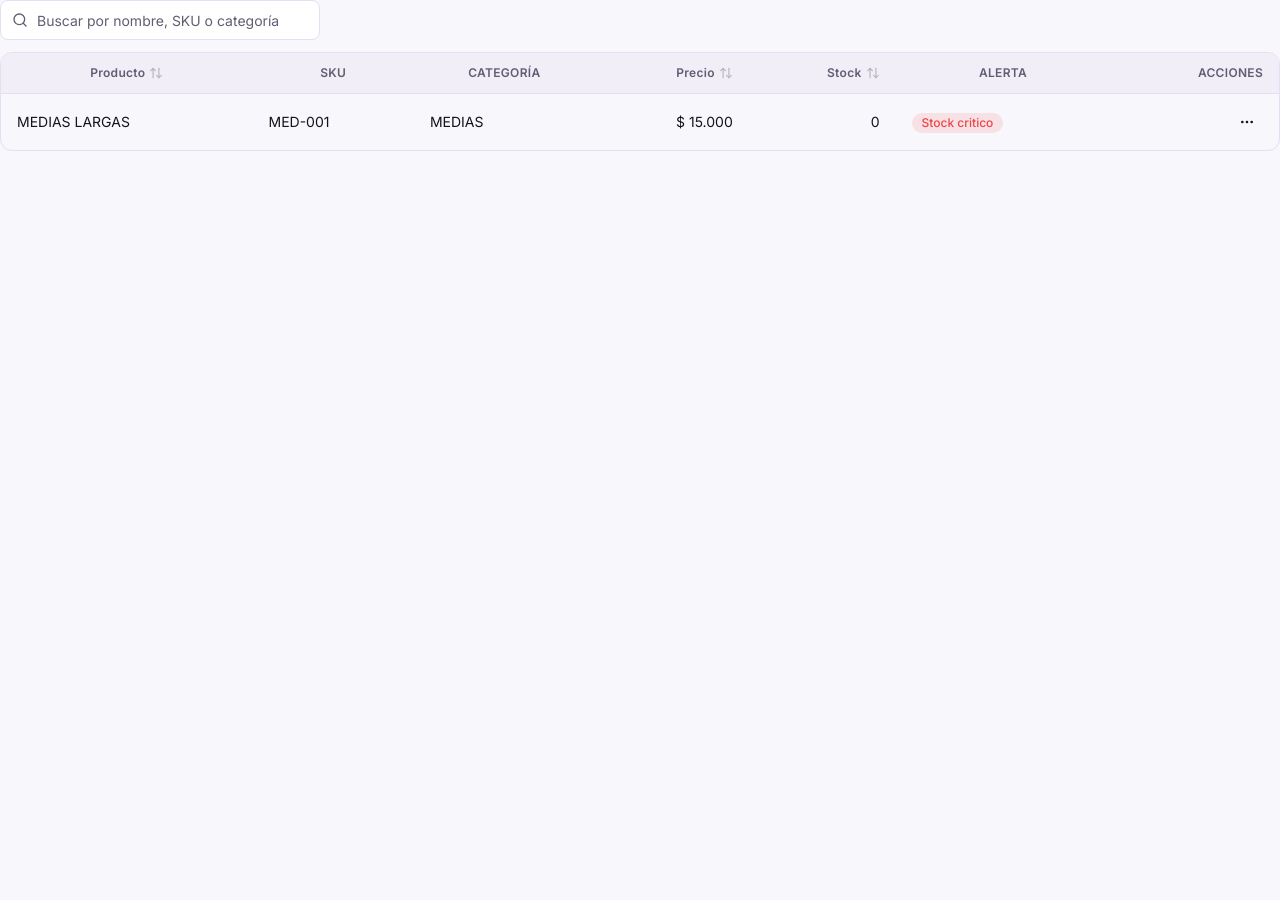
Test: ProductsTable › removes a deleted product from the table after confirming
Check: the text "MEDIAS LARGAS" is shown, box x1=1 y1=94 x2=252 y2=150
Click the button named "Acciones para MEDIAS LARGAS" at (1247, 122), box x1=1231 y1=106 x2=1263 y2=138
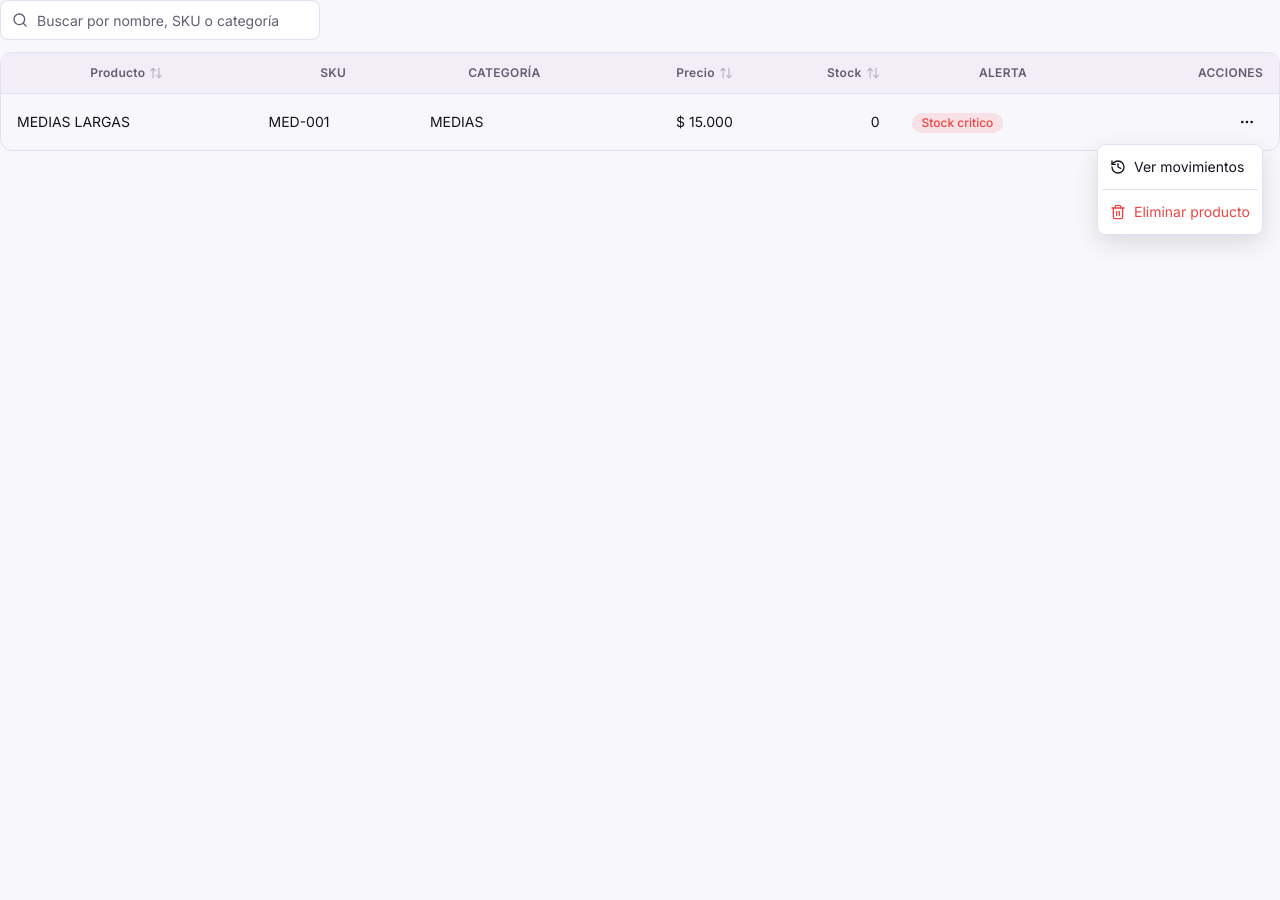
Click the menu item "Eliminar producto" at (1180, 212), box x1=1110 y1=203 x2=1250 y2=220
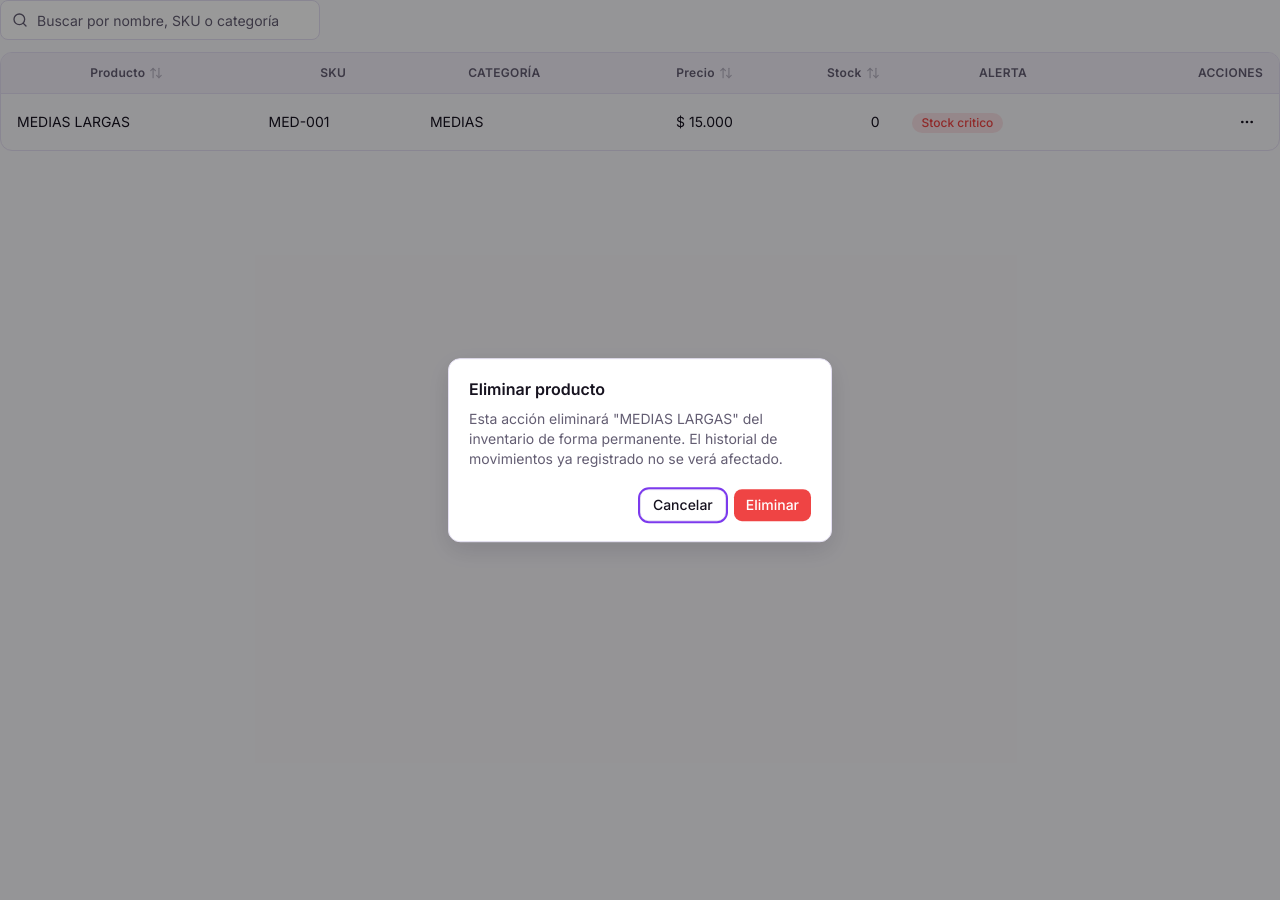
Click the button "Eliminar" at (772, 505), box x1=734 y1=489 x2=811 y2=521
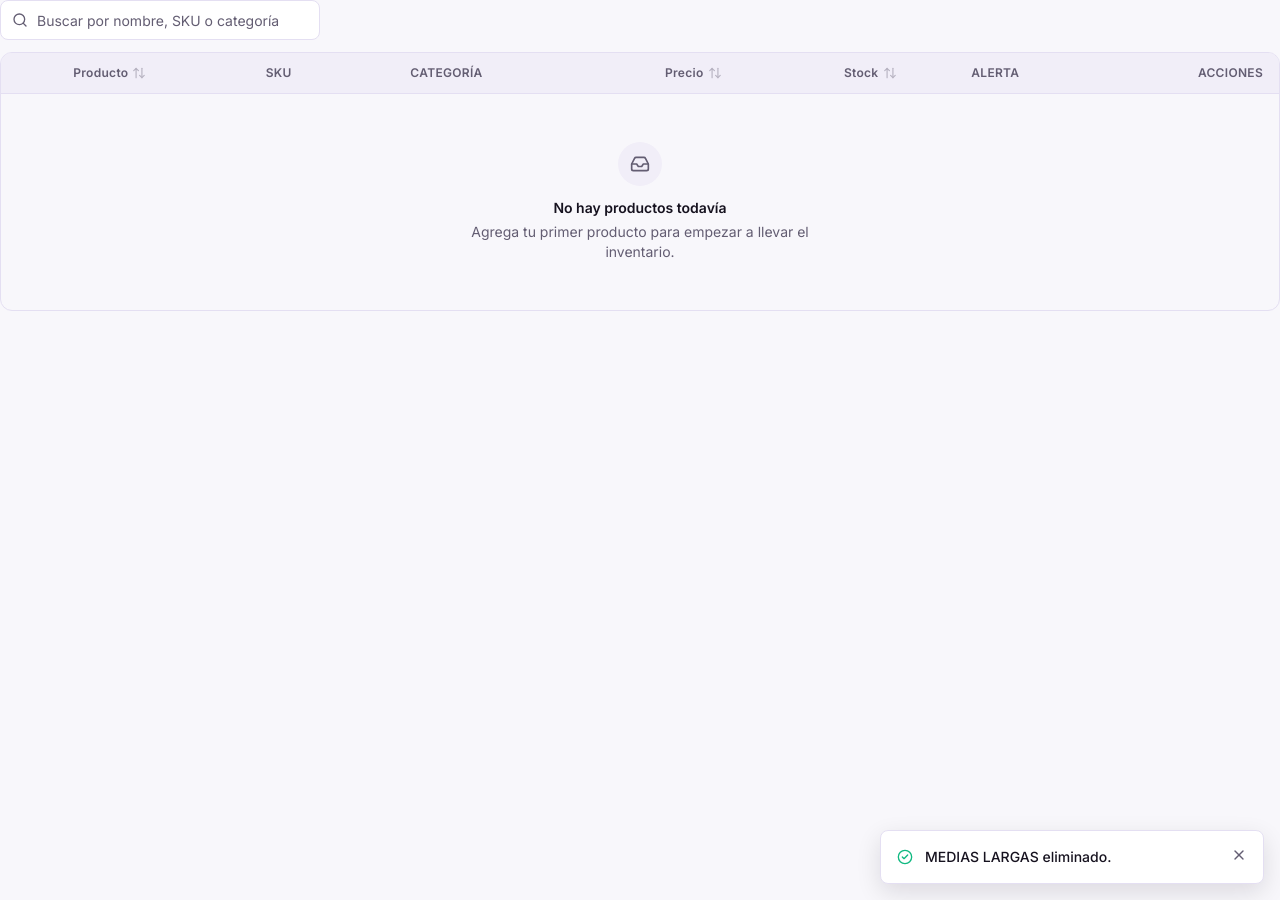
Check: the text "MEDIAS LARGAS eliminado." is shown, box x1=925 y1=848 x2=1111 y2=865
